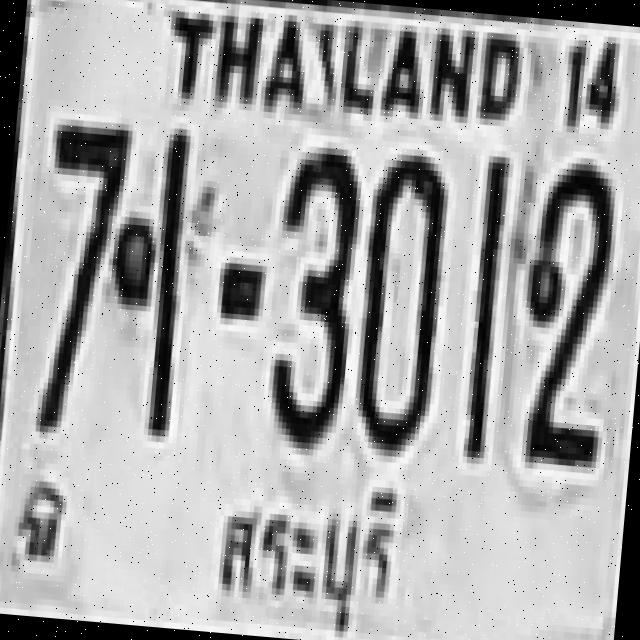0: (348, 146, 449, 453)
1: (460, 152, 508, 454), (463, 153, 508, 418)
2: (510, 170, 618, 464)
3: (260, 138, 360, 445)
7: (28, 118, 129, 425), (36, 114, 129, 330), (38, 118, 129, 308)
SaraBuri: (199, 461, 414, 640)
